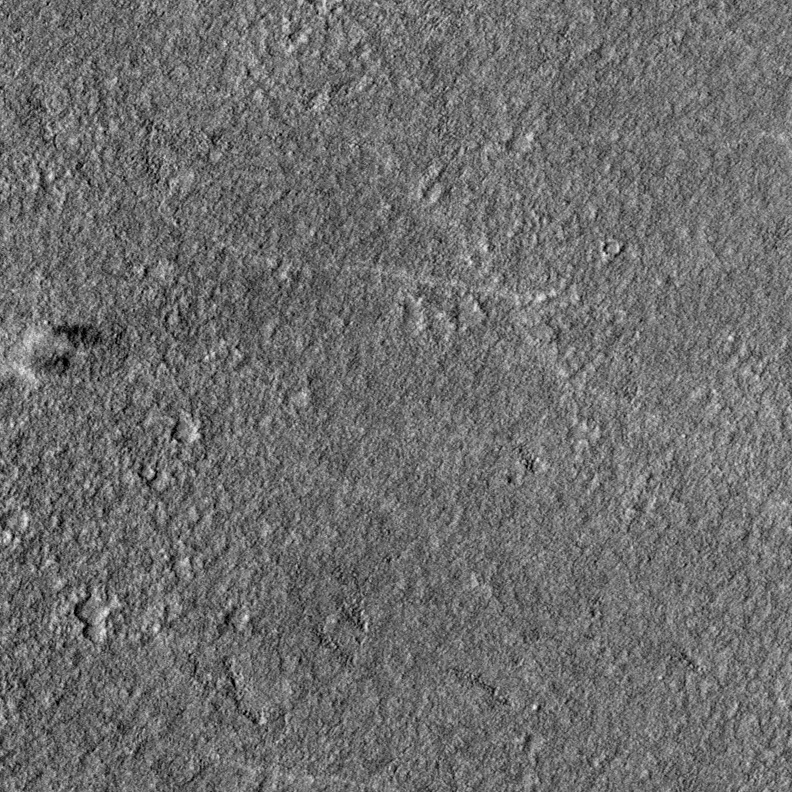dust_devil: (15, 320, 111, 387)
